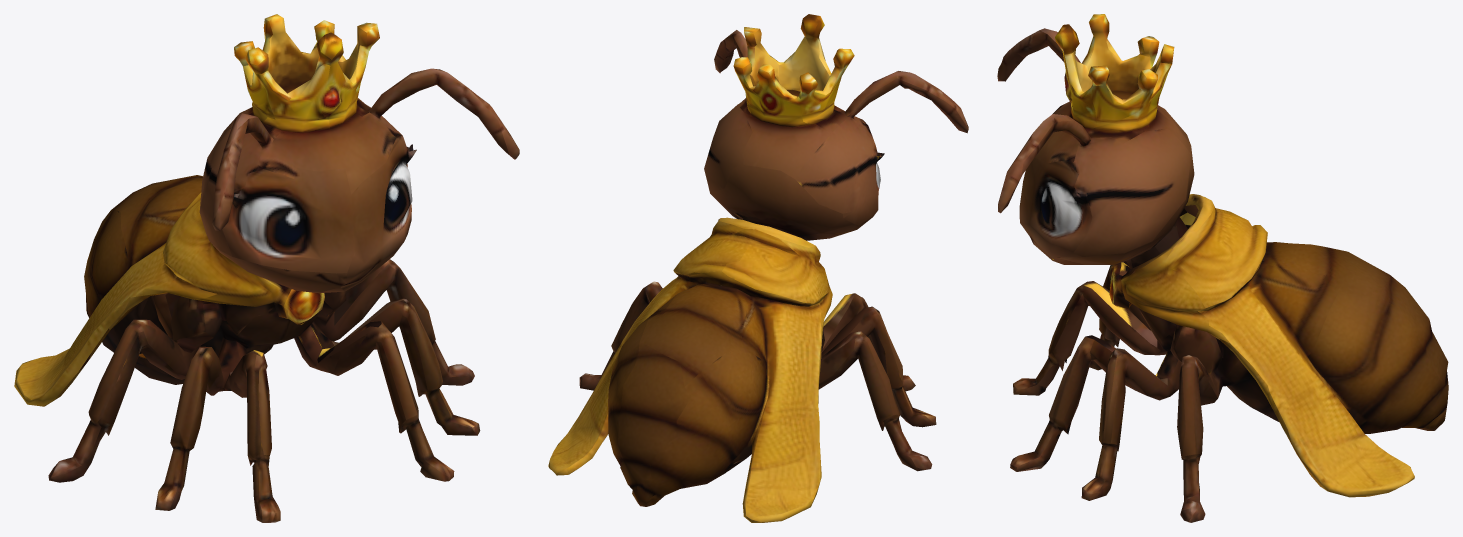
Rendered from Queen.glb.
3 renders of one model, left to right at view 1: azimuth 30°, elevation 25°; view 2: azimuth 150°, elevation 25°; view 3: azimuth 270°, elevation 25°, orthographic. The views are drawn at different scales.
Bounding box in the file's own units: 1.95 × 1.98 × 1.99.
Materials: 1 (1 with a texture image).
